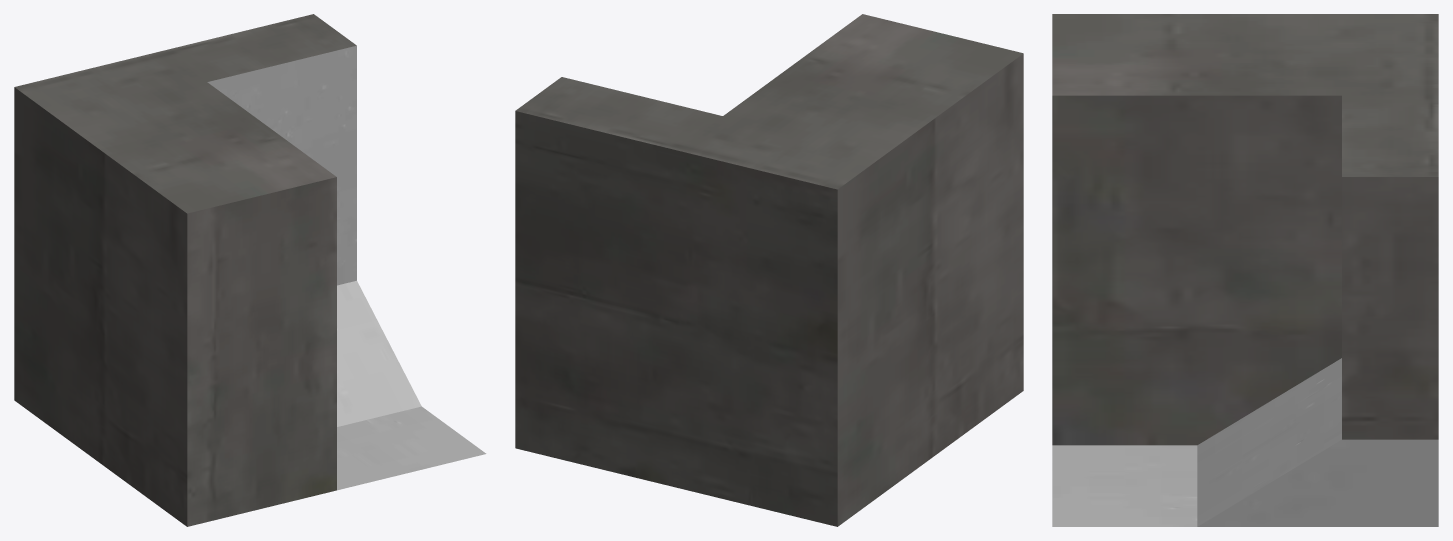
The model's file is flush_floor_angle.glb.
3 renders of one model, left to right at view 1: azimuth 30°, elevation 25°; view 2: azimuth 150°, elevation 25°; view 3: azimuth 270°, elevation 25°, orthographic. The views are drawn at different scales.
Visible parts, largest first — view 1: flush.floor.angle; view 2: flush.floor.angle; view 3: flush.floor.angle.
Boxes of the visible parts, x1,y1,x2,y2 form: flush.floor.angle: (14, 14, 486, 526); flush.floor.angle: (515, 14, 1023, 526); flush.floor.angle: (1052, 14, 1438, 526).
Bounding box in the file's own units: 0.5 × 0.5 × 0.5.
2 materials, 2 textured.
